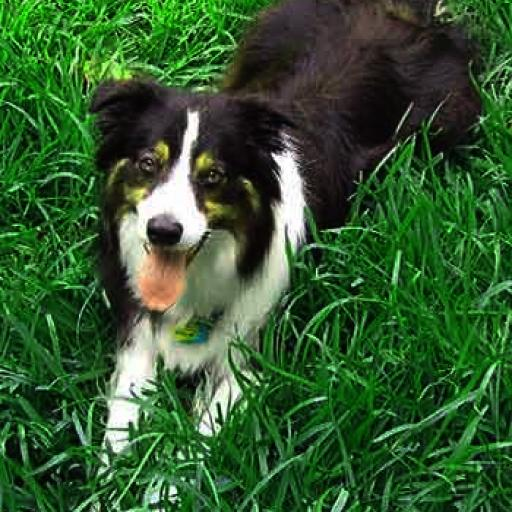dog_face: (79, 70, 290, 296)
